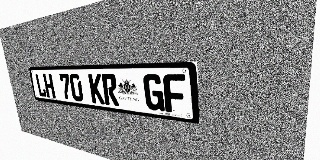0: (69, 74, 84, 102)
7: (58, 74, 73, 100)
F: (163, 74, 187, 114)
G: (143, 74, 165, 112)
H: (43, 73, 56, 98)
K: (88, 74, 105, 104)
L: (35, 73, 47, 97)
R: (101, 74, 119, 106)
